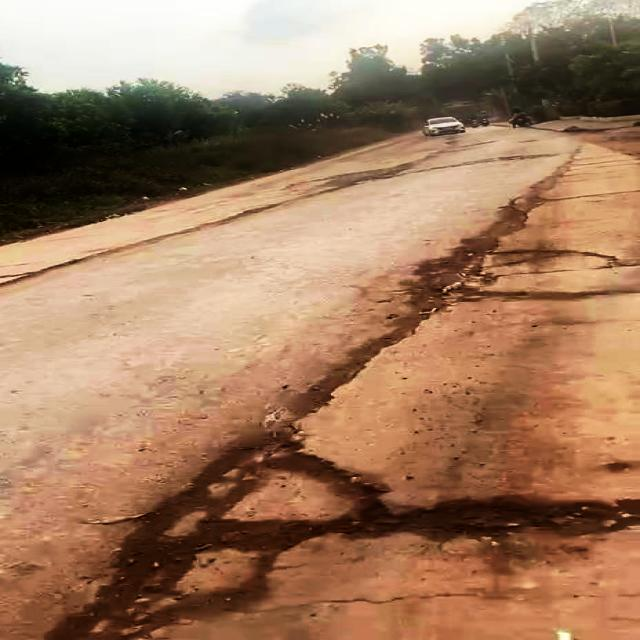pothole: (94, 433, 640, 610)
